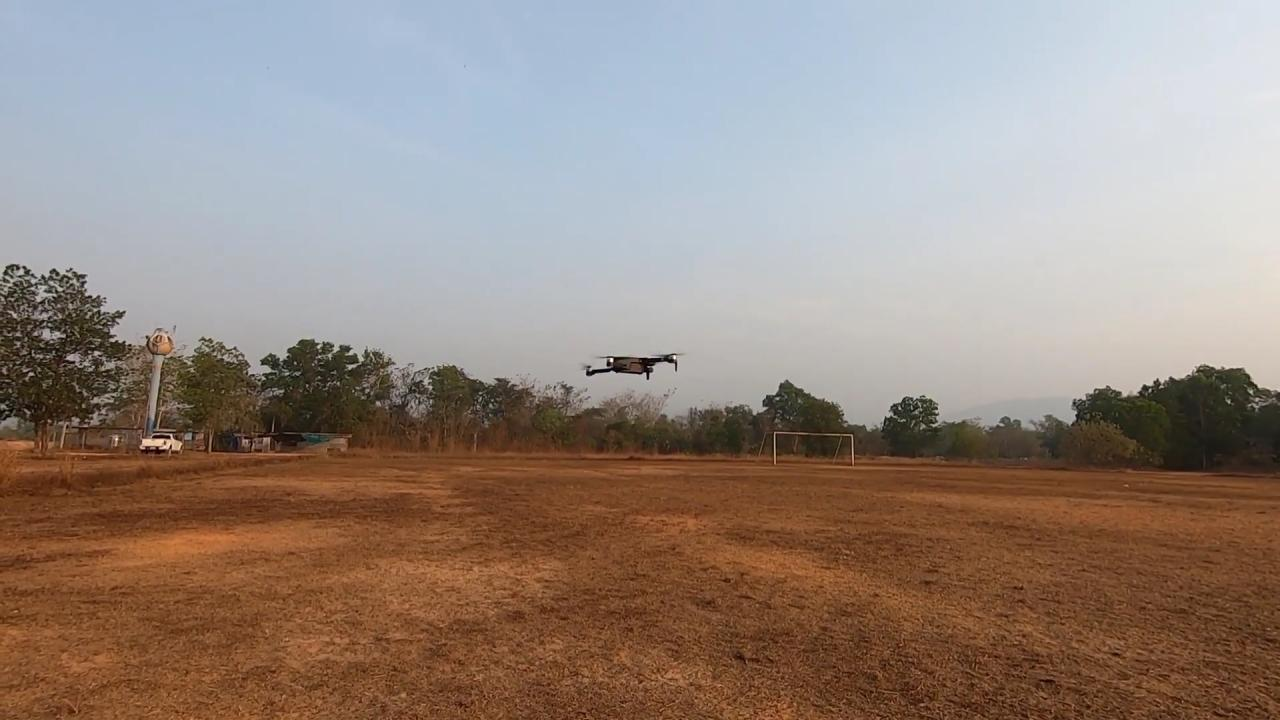Drone: (564, 335, 700, 396)
